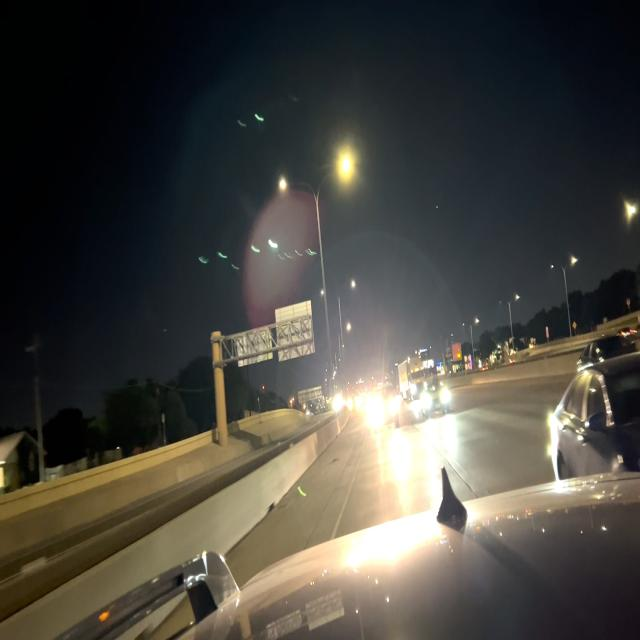back-of-sign: (237, 300, 316, 369), (297, 386, 324, 405)
